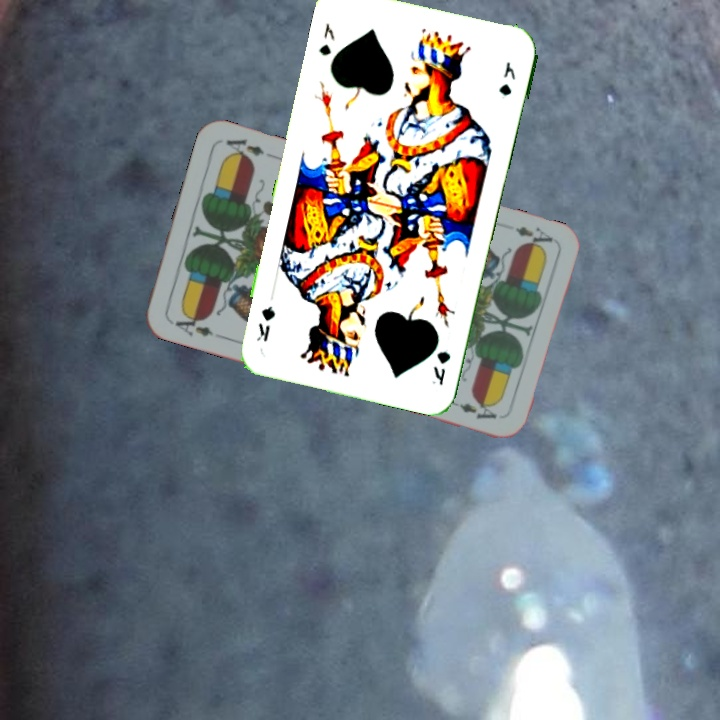EA: (166, 308, 216, 340), (511, 222, 556, 253)
GK: (427, 347, 453, 388), (315, 19, 338, 58)
